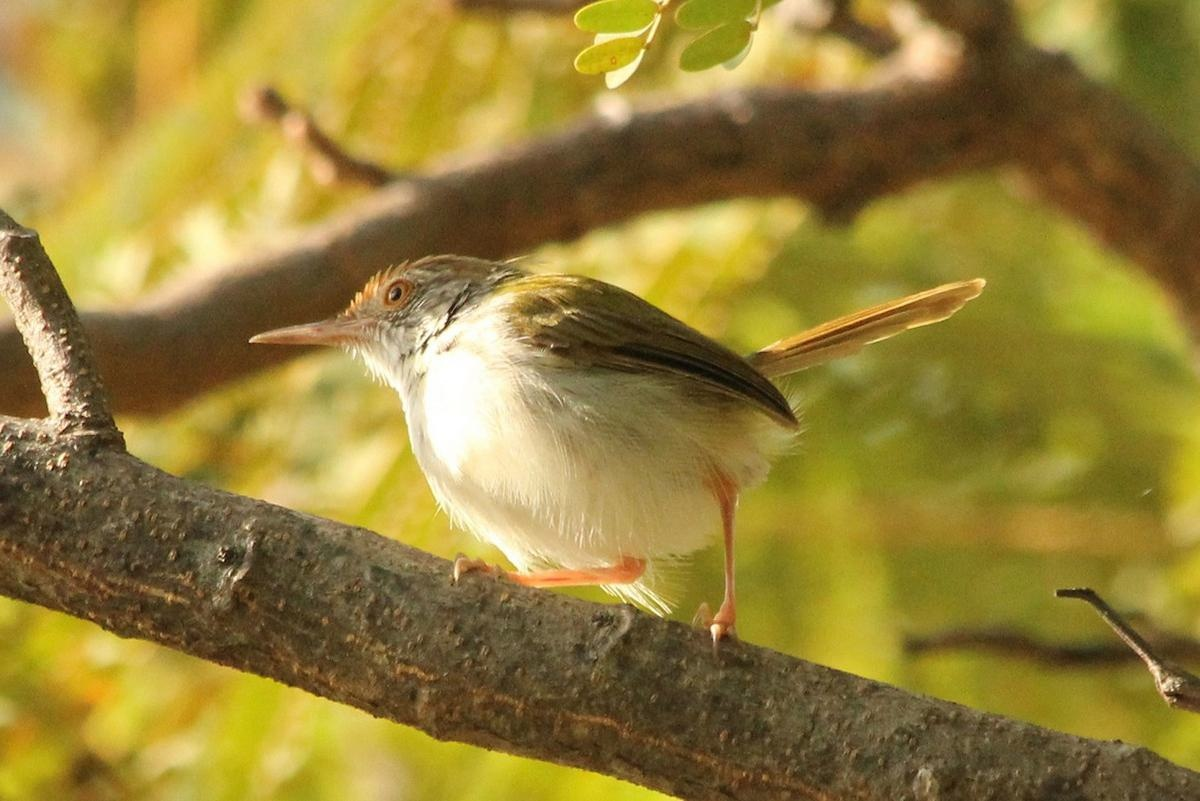tailorbird: (239, 201, 961, 655)
